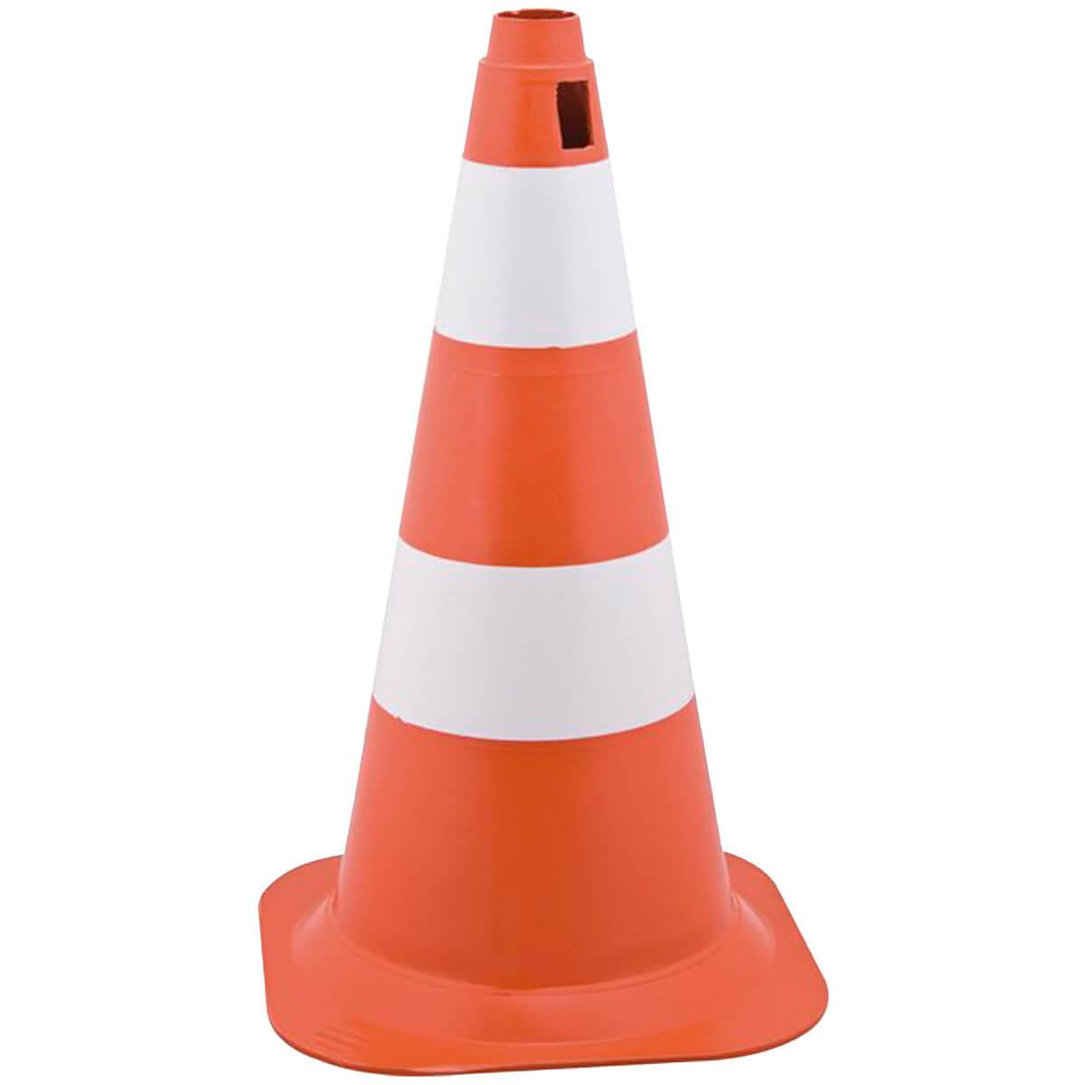traffic_cone: (257, 7, 830, 1075)
